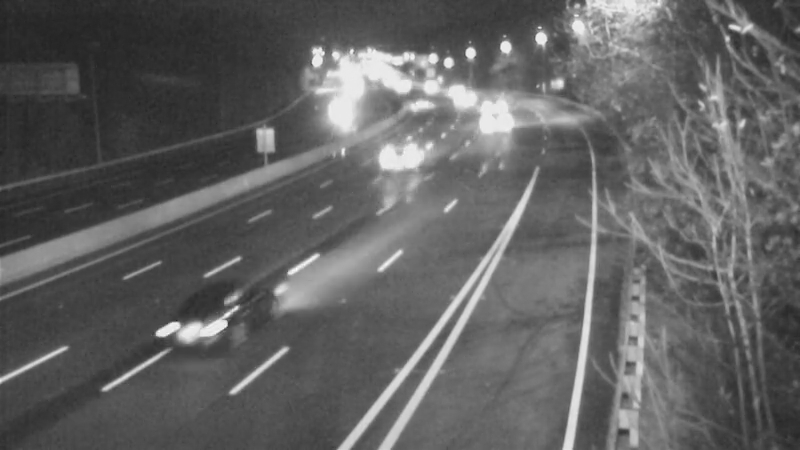vehicle: (137, 277, 247, 387), (356, 121, 436, 201), (440, 75, 490, 125), (387, 79, 437, 129), (461, 78, 511, 128), (469, 95, 519, 145), (314, 86, 364, 136)
